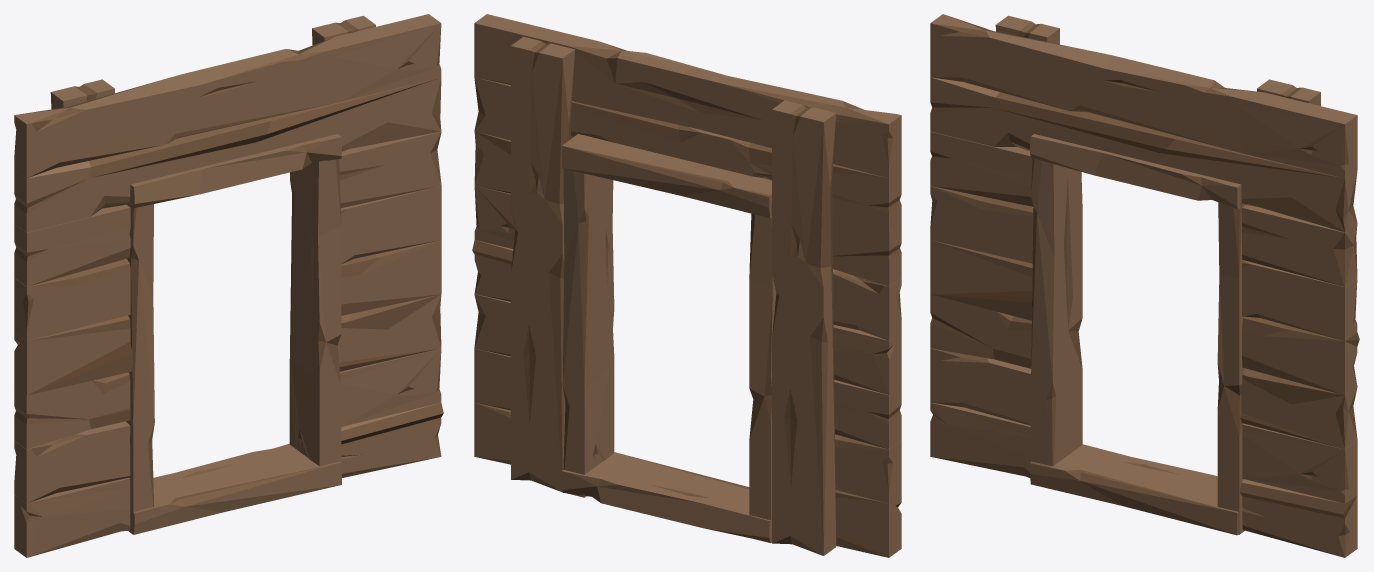
File: mesh_plank_wall_doorframe.fbx
3 views of the same model, side by side, from view 1: azimuth 30°, elevation 25°; view 2: azimuth 150°, elevation 25°; view 3: azimuth 330°, elevation 25° (orthographic).
Parts seen in each view (by area): view 1: mesh_plank_wall_doorframe; view 2: mesh_plank_wall_doorframe; view 3: mesh_plank_wall_doorframe.
Boxes of the visible parts, x1,y1,x2,y2 form: mesh_plank_wall_doorframe: [14, 14, 443, 557]; mesh_plank_wall_doorframe: [472, 14, 901, 557]; mesh_plank_wall_doorframe: [930, 14, 1359, 557].
Size of the model in its own units: 2 by 2 by 0.2745.
